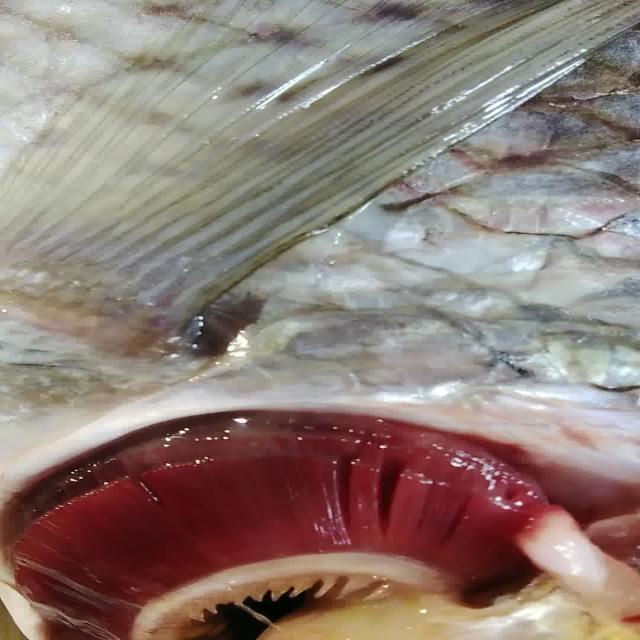Fresh: (8, 396, 592, 628)
